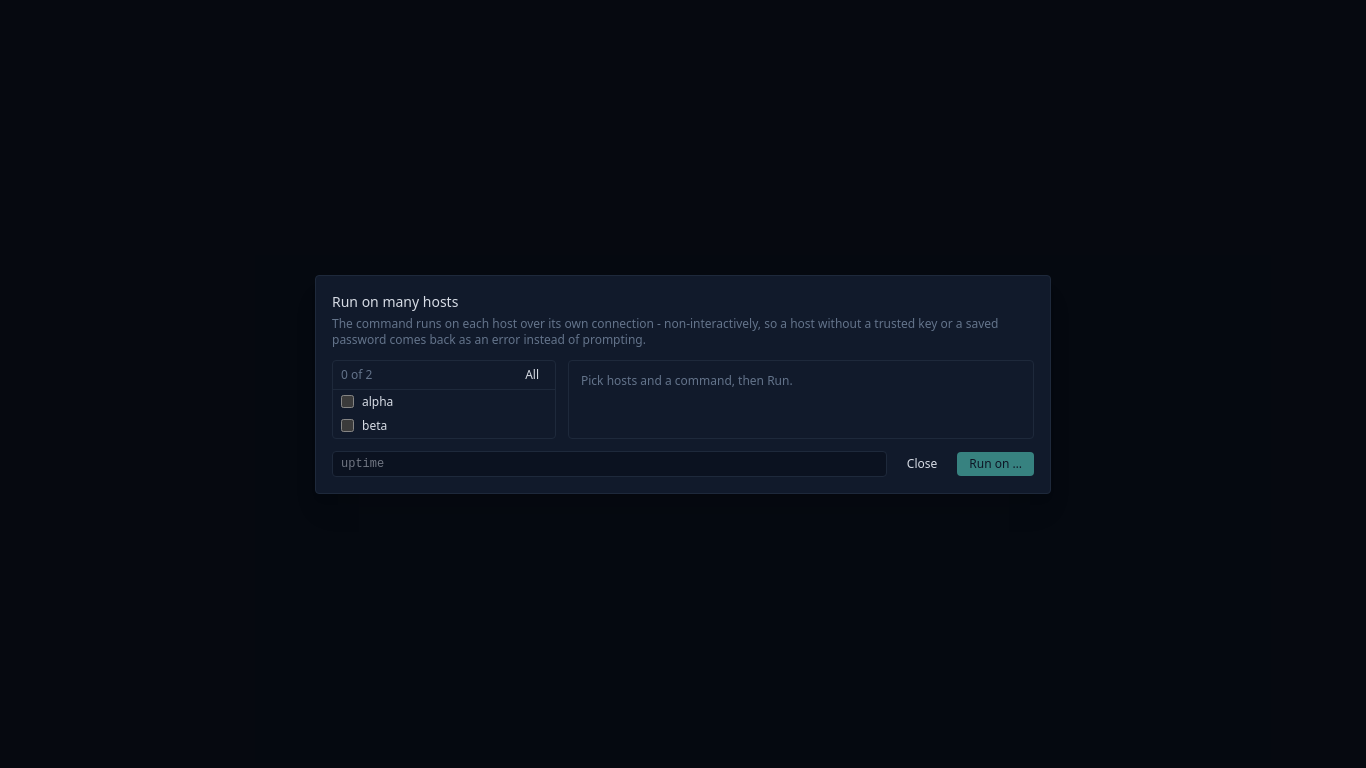
Test: FleetDialog › keeps rows only for hosts that were run
Click the checkbox labelled "beta" at [348, 426], box [341,419,354,432]
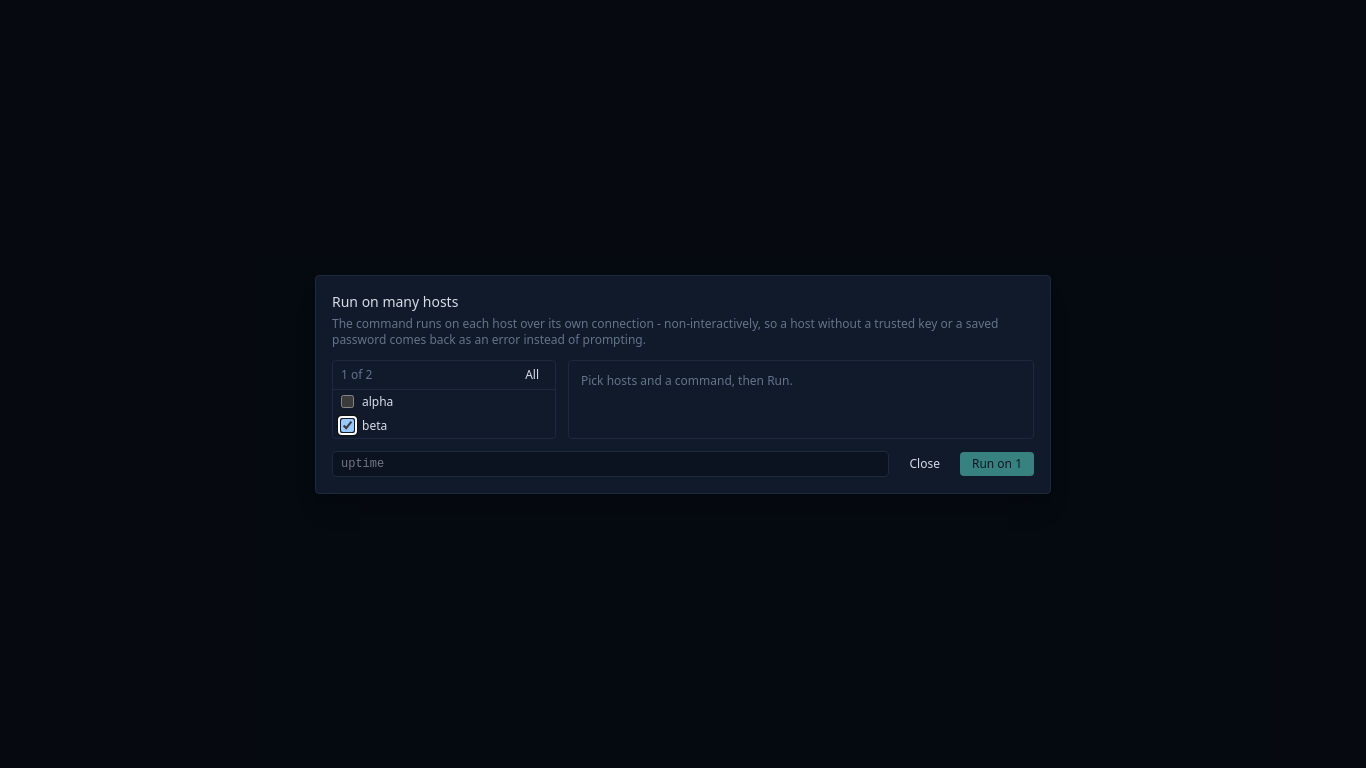
Type "id" into the field named "Command" at [611, 464], box [332,450,890,476]
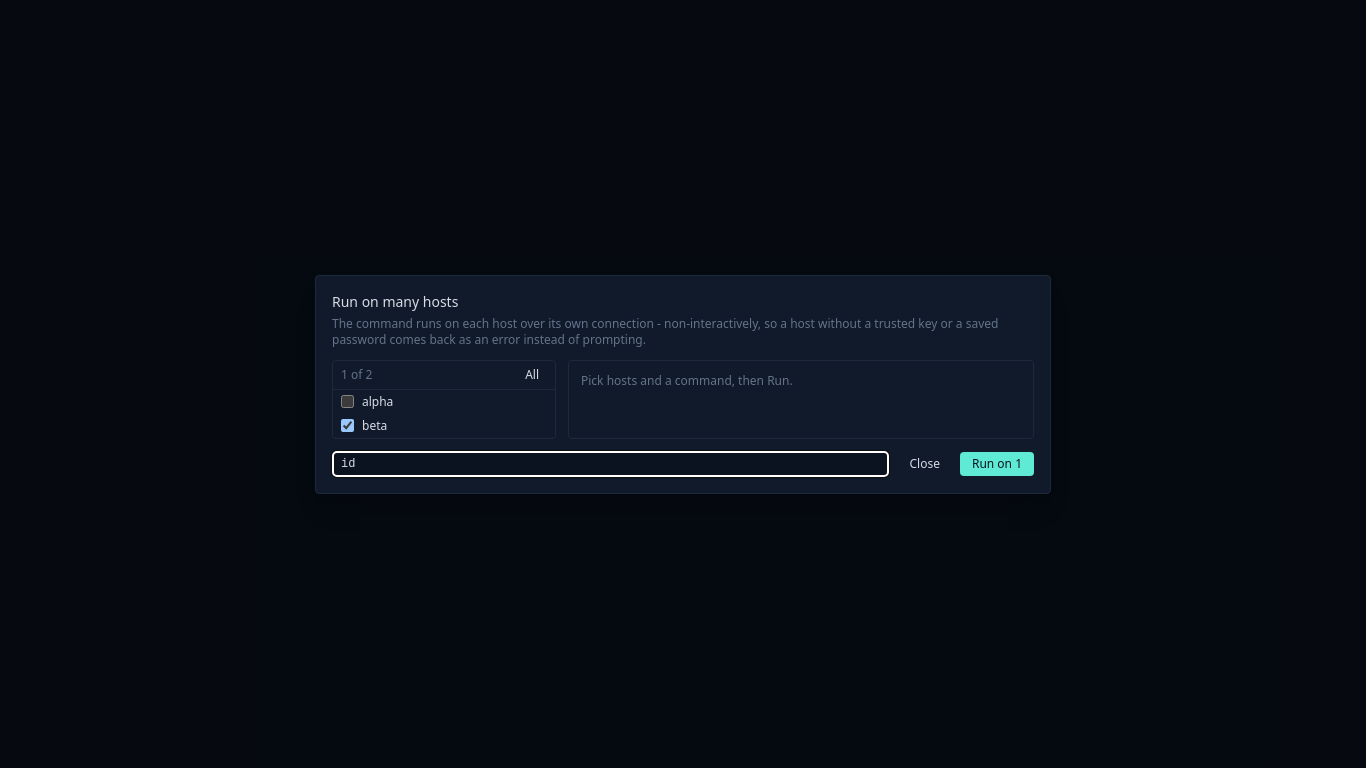
Click the button "Run on 1" at [997, 464], box [960,452,1034,476]
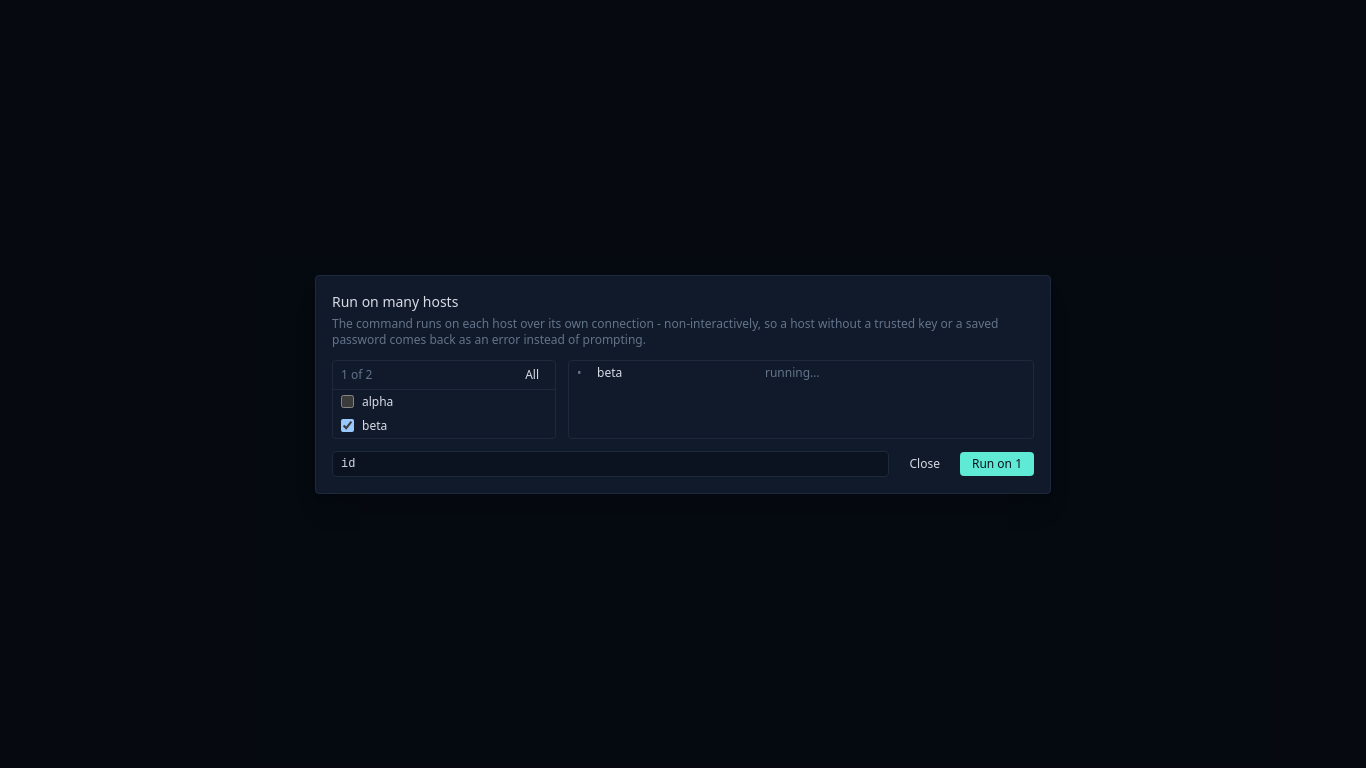
Now the text "running…" is shown once, box [765,364,820,380]
